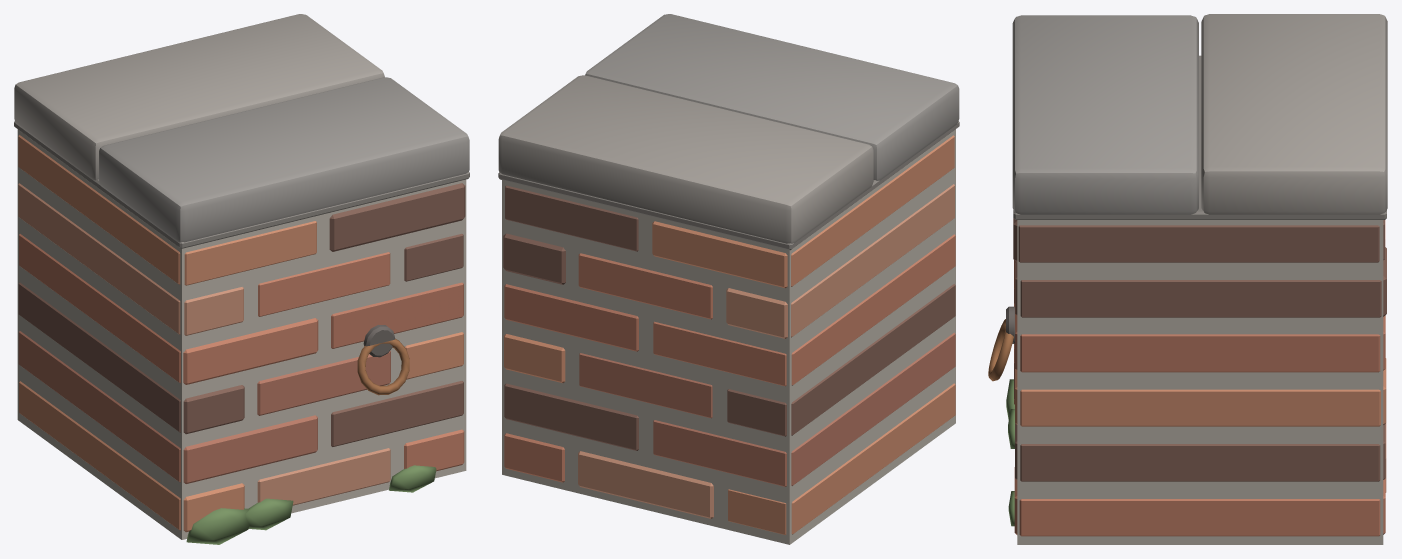
The model's file is wall_1.glb.
3 renders of one model, left to right at view 1: azimuth 30°, elevation 25°; view 2: azimuth 150°, elevation 25°; view 3: azimuth 270°, elevation 25°, orthographic. The views are drawn at different scales.
Visible parts, largest first — view 1: wall_1; view 2: wall_1; view 3: wall_1.
Part boxes in pixels (box(x1,y1,x2,y2)): wall_1: box(14, 14, 469, 544); wall_1: box(498, 14, 959, 544); wall_1: box(988, 14, 1387, 544).
Bounding box in the file's own units: 1 × 1.15 × 1.06.
